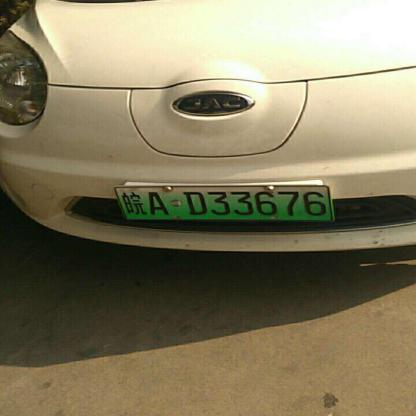lp: (116, 186, 330, 219)
